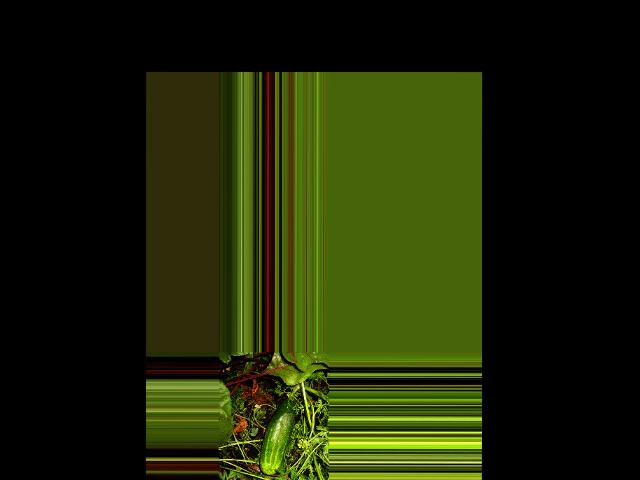cucumber: (259, 397, 297, 473)
